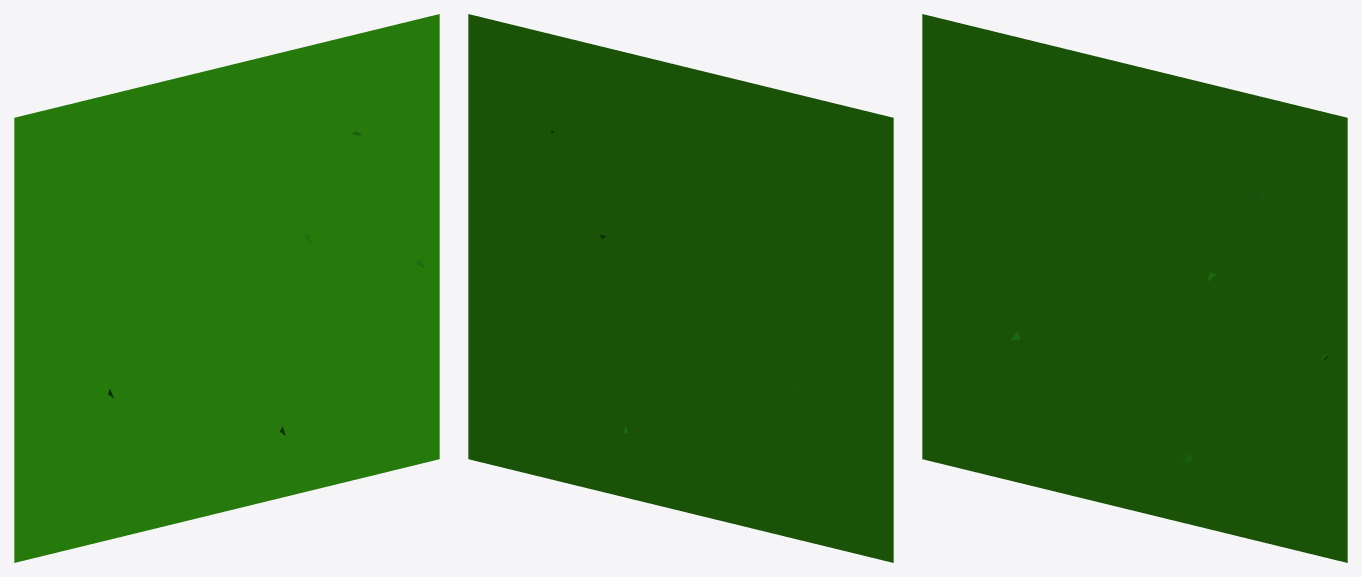
The model's file is grass.glb.
3 renders of one model, left to right at view 1: azimuth 30°, elevation 25°; view 2: azimuth 150°, elevation 25°; view 3: azimuth 330°, elevation 25°, orthographic.
Visible parts, largest first — view 1: Plane.001; view 2: Plane.001; view 3: Plane.001.
Part boxes in pixels (x1,y1,x2,y2): Plane.001: (14, 14, 439, 562); Plane.001: (468, 14, 893, 562); Plane.001: (922, 14, 1347, 562).
Size of the model in its own units: 2 by 2 by 0.05.
